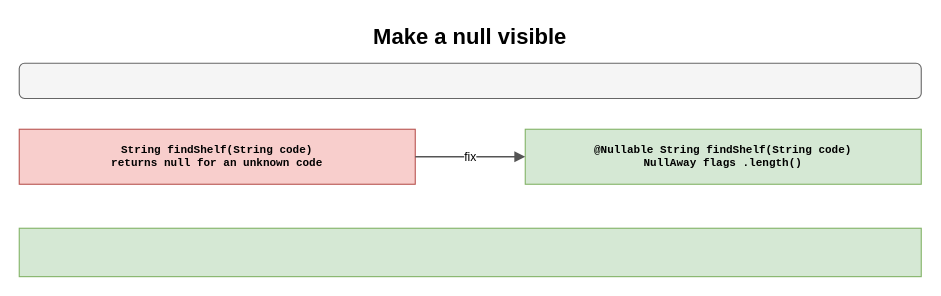
The diagram is 941 pixels wide and 296 high, and some of its shapes have lost their labels. The centre of each missing label's shape, as x and y in pixels:
Declare what the method really returns, then handle it: the point at 469,80
var shelf = findShelf(code); return shelf == null ? 0 : shelf.length();: the point at 469,252
